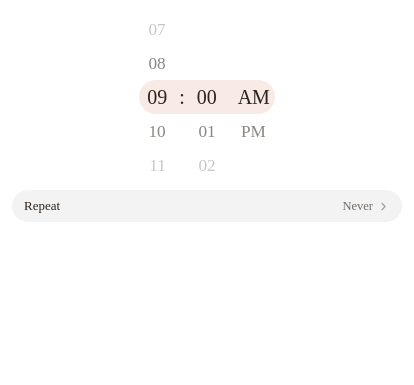
Test case: AlertScheduleHeader › expands the Repeat row into an options list, and selecting one collapses it again
(page scrolled)
Click the text "Repeat": x=42, y=206 [24,198,60,214]
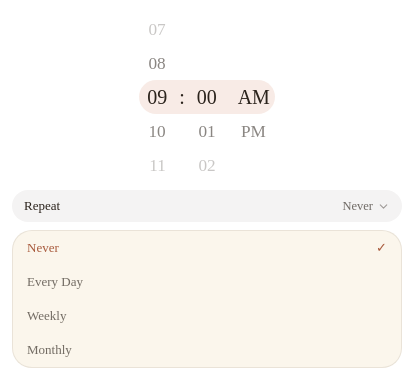
Now the text "Every Day" is shown, box [27,274,83,290]
Now the text "Weekly" is shown, box [27,308,66,324]
Now the text "Monthly" is shown, box [27,342,72,358]
Click the button labelled "Weekly": x=47, y=316 [13,299,401,333]
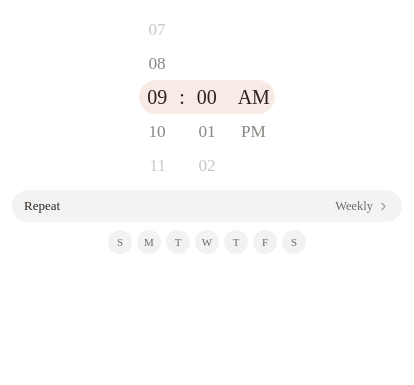
Now the button "Every Day" is gone
Now the text "Weekly" is shown once, box [335,198,373,214]
